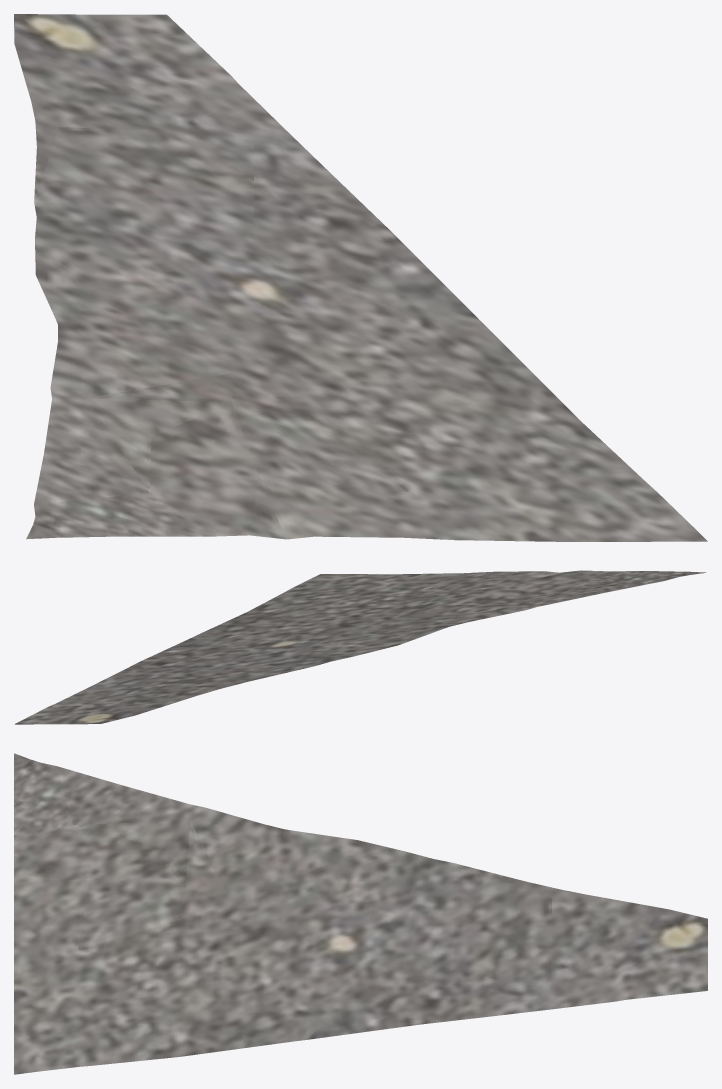
3 renders of one model, top to bottom at view 1: azimuth 30°, elevation 25°; view 2: azimuth 150°, elevation 25°; view 3: azimuth 270°, elevation 25°, orthographic. The views are drawn at different scales.
Bounding box in the file's own units: 0.6093 × 0.144 × 0.8374.
Materials: 1 (1 with a texture image).
